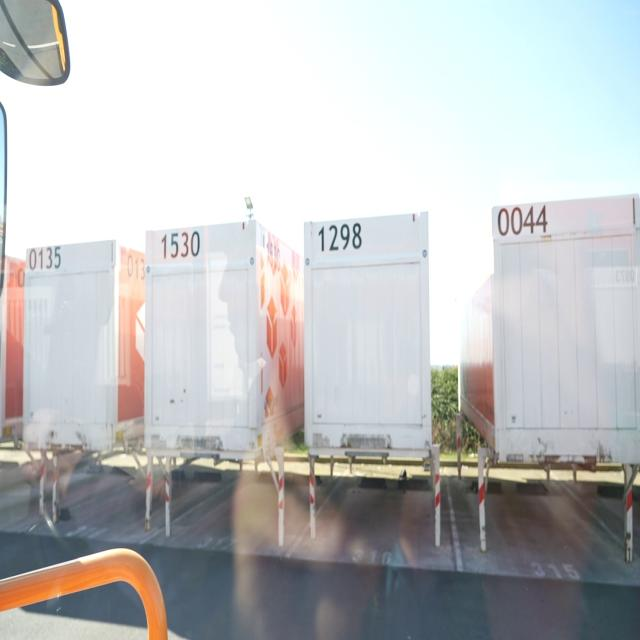Code: (495, 200, 552, 239), (316, 218, 364, 256), (158, 227, 204, 262), (27, 241, 64, 276)
